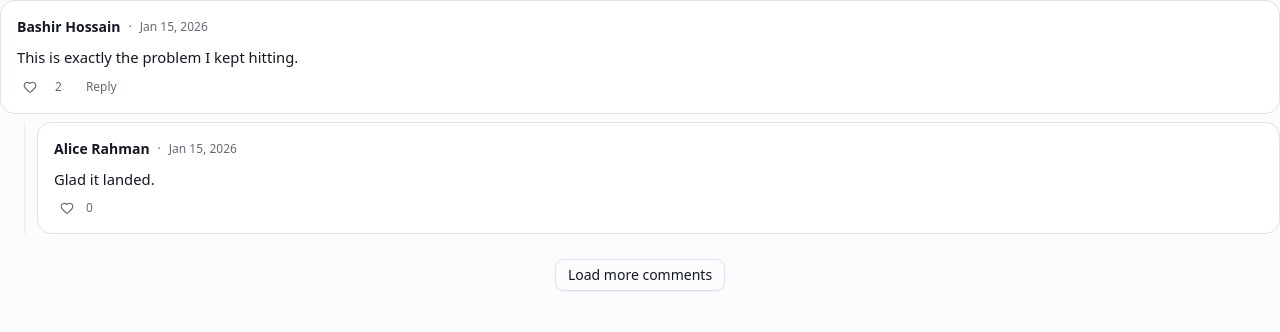
CommentThread › reports a failed load-more without losing the comments already shown
Check: the text "This is exactly the problem I kept hitting." is shown, box [17,47,298,67]
Step 1. Click the button "Load more comments" → (640, 275), box [555,259,725,291]
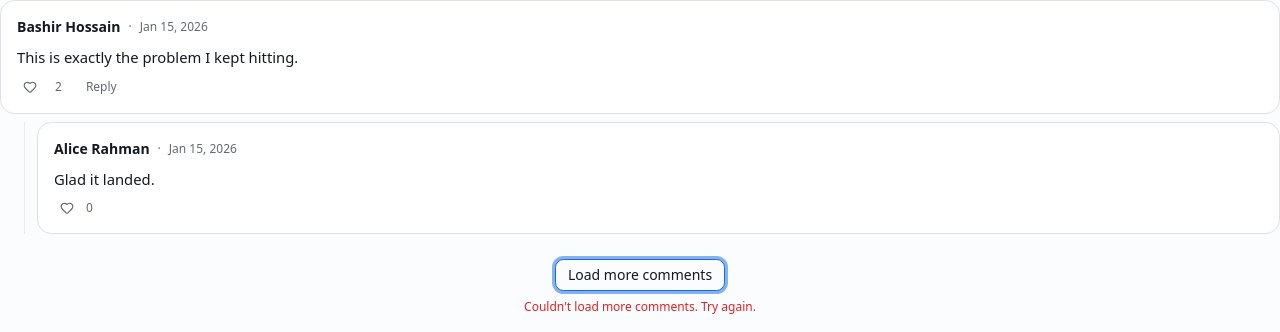
Check: the text "This is exactly the problem I kept hitting." is shown, box [17,47,298,67]
Check: the text "Couldn't load more comments. Try again." is shown, box [524,299,756,315]
